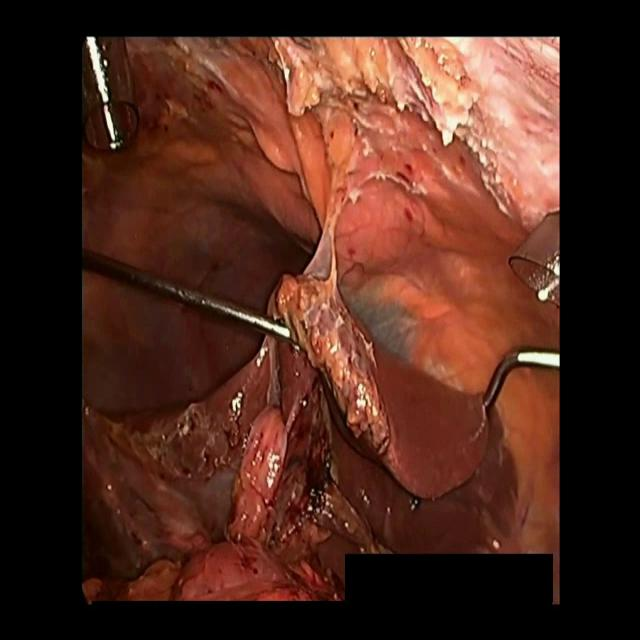surgical-area: (82, 39, 562, 599)
surgical-tool: (82, 245, 293, 345), (486, 348, 559, 408)
